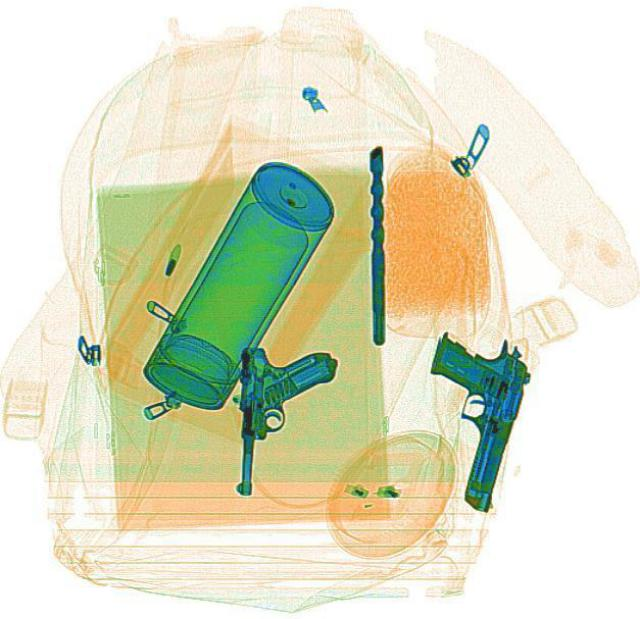Gun: (388, 319, 538, 513), (233, 344, 334, 497)
